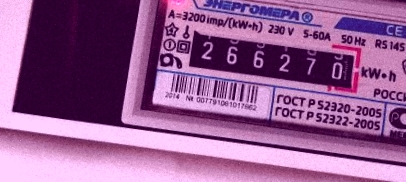0: (329, 59, 344, 82)
2: (198, 38, 215, 61), (276, 51, 291, 74)
6: (224, 44, 240, 66), (250, 48, 266, 69)
7: (301, 55, 317, 78)
screen: (177, 18, 370, 102)
